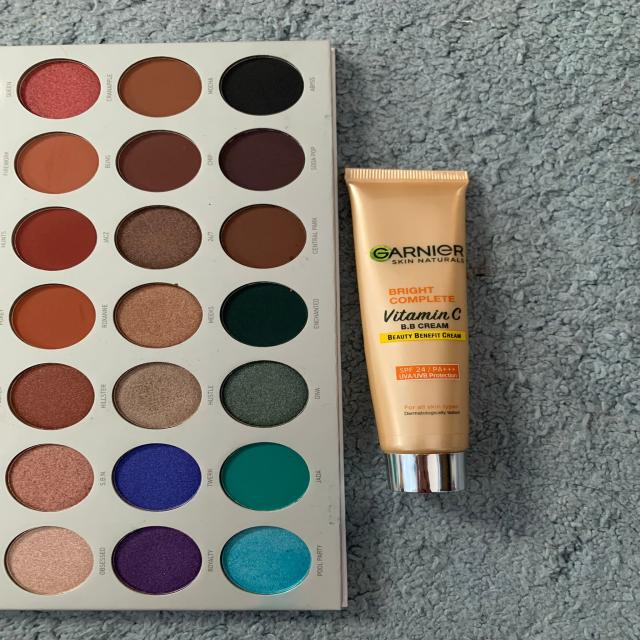bb cream: (349, 149, 503, 505)
eye shade: (1, 46, 339, 599)
